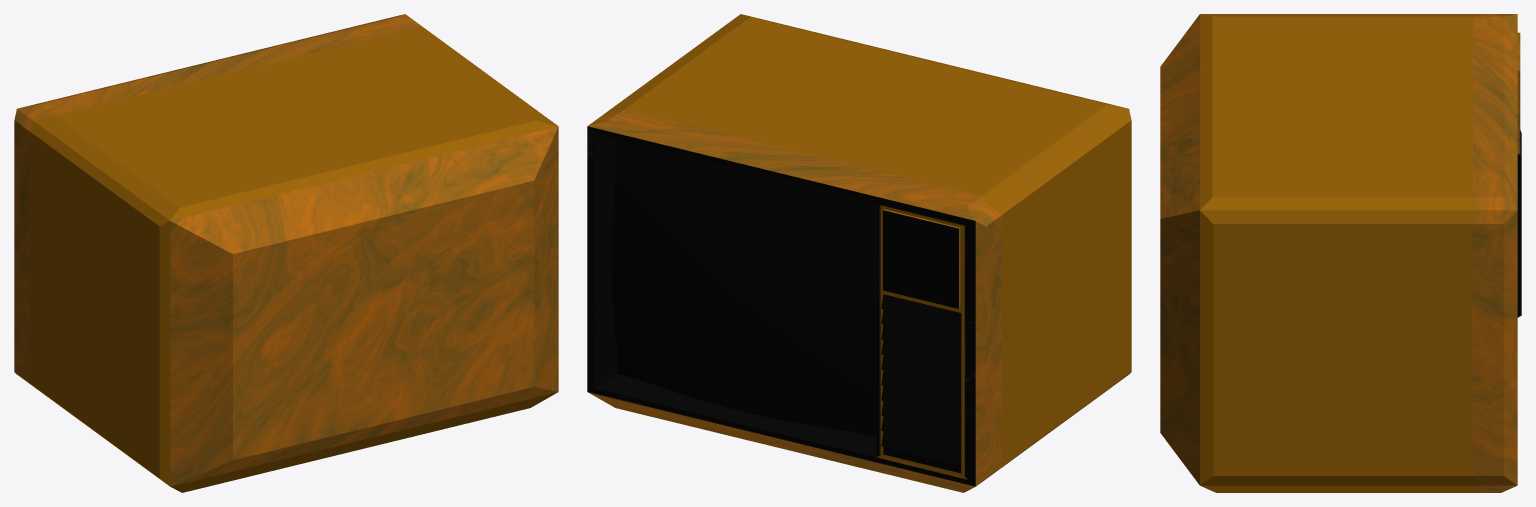
The model's file is tv cela fr.fbx.
3 renders of one model, left to right at view 1: azimuth 30°, elevation 25°; view 2: azimuth 150°, elevation 25°; view 3: azimuth 270°, elevation 25°, orthographic. The views are drawn at different scales.
Parts seen in each view (by area): view 1: Cube.020; view 2: Cube.020; view 3: Cube.020.
Part boxes in pixels (x1,y1,x2,y2): Cube.020: (14,14,558,492); Cube.020: (587,14,1131,492); Cube.020: (1160,14,1521,492).
Size of the model in its own units: 206 by 142 by 156.
Materials: 5 (5 with a texture image).
